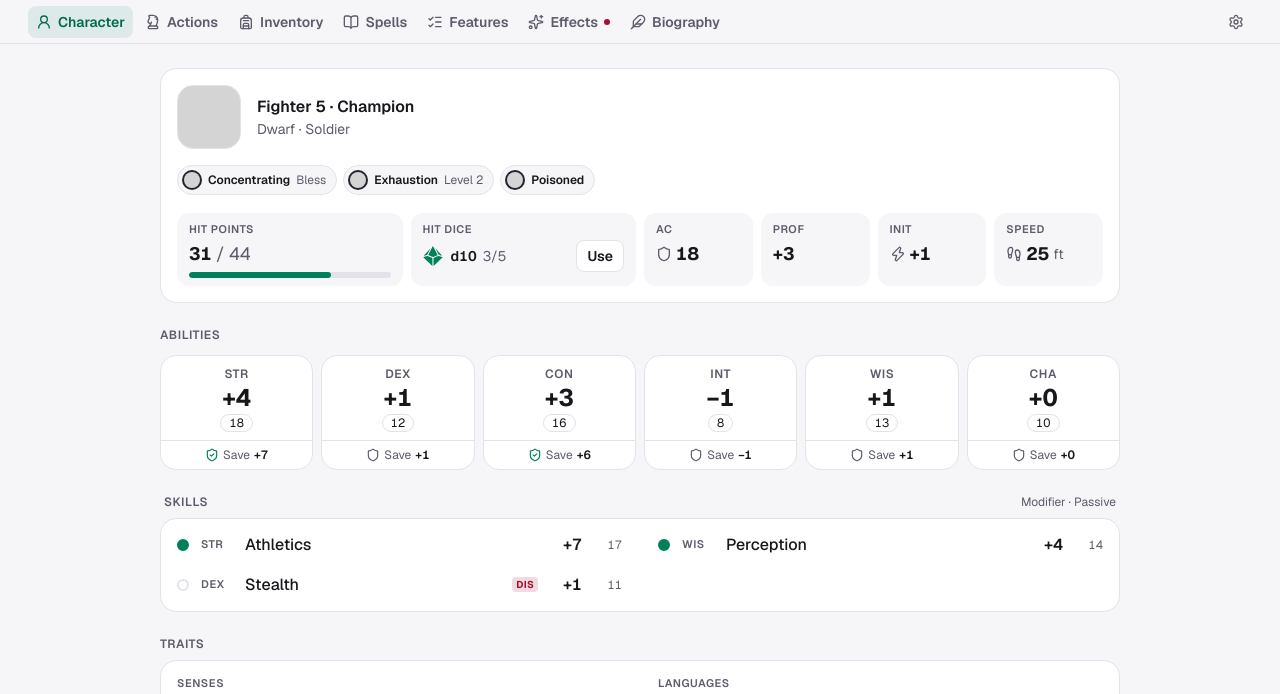
components/transfers/give-controls › keeps the spinner on its own buttons, none by the Currency label, unlike a party’s sheet (module 0.33.0)
Click the tab "Inventory" at [281, 22], box [230,6,331,38]
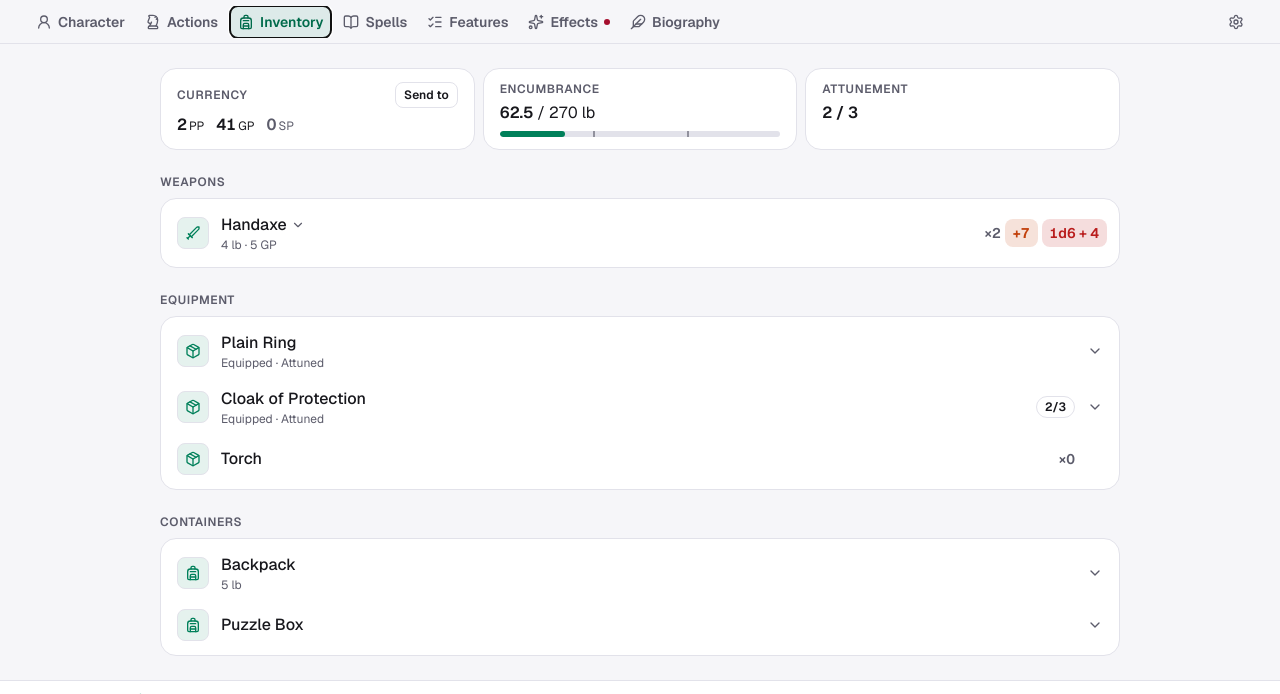
Click the button "Send to" at [426, 94], box [395,82,458,108]
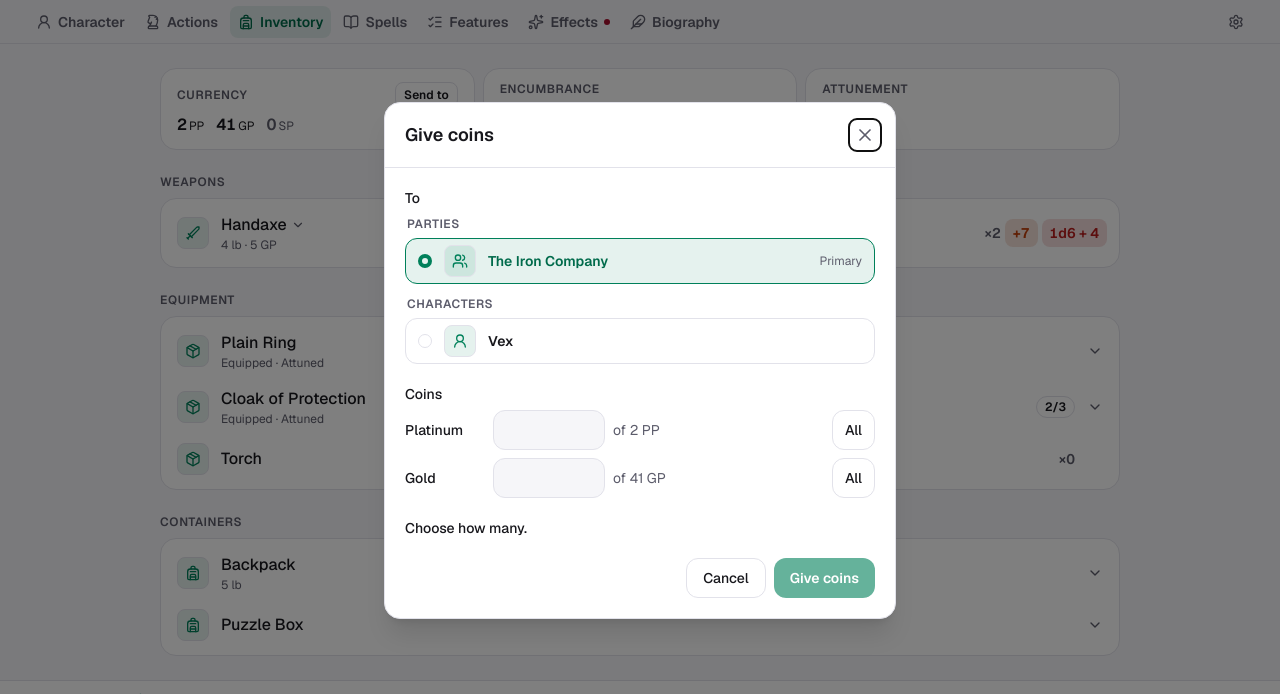
Type "5" into the field labelled "Gold" at [549, 478], box [493,458,605,498]
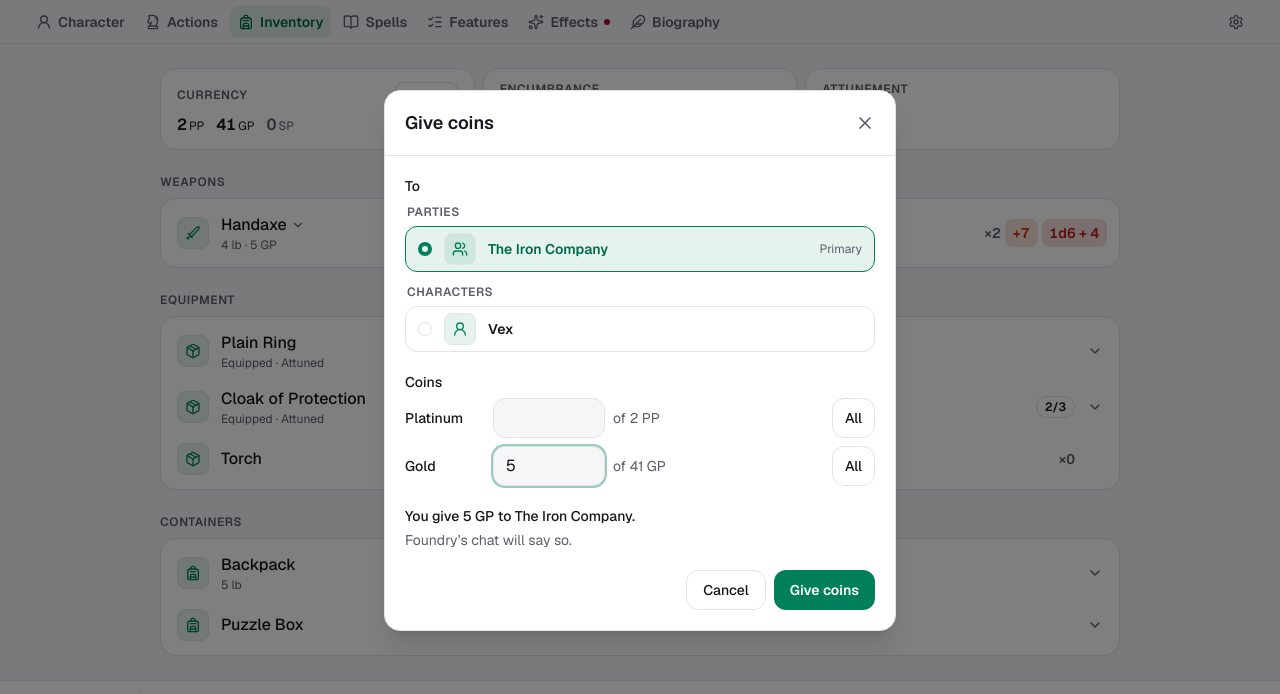
Click the button "Give coins" at [824, 590], box [774,570,875,610]
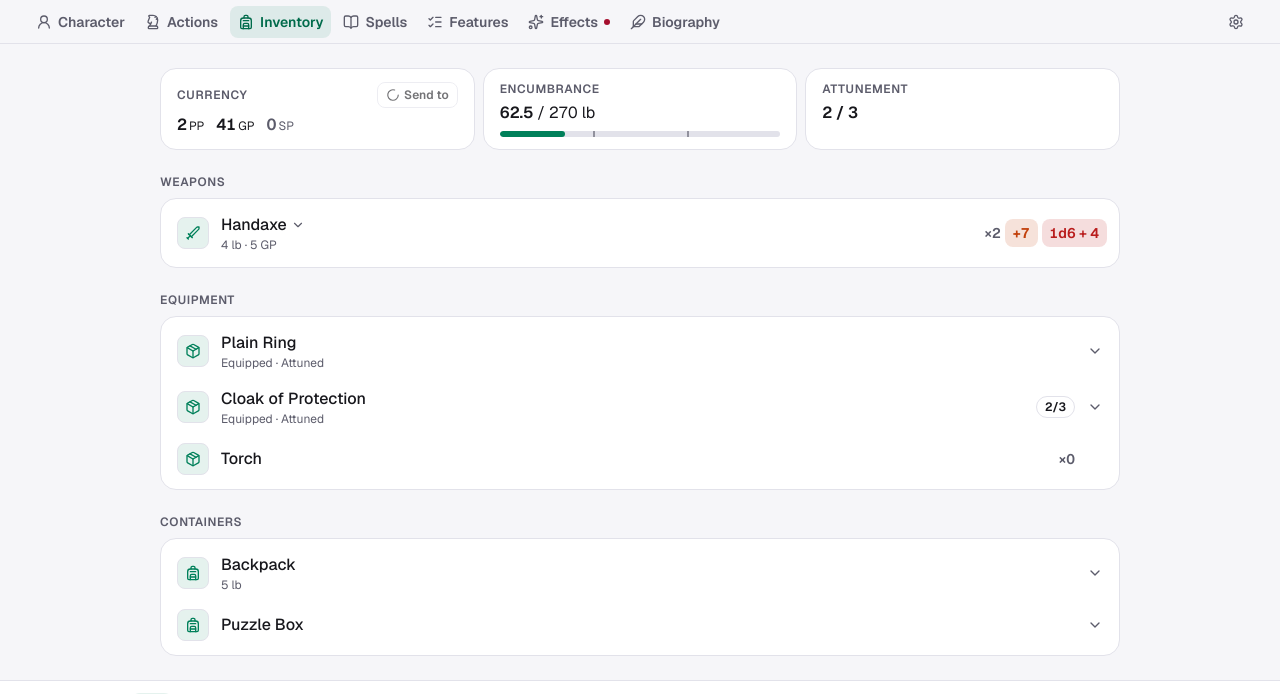
Now the button "Send to" is disabled, box [377,82,458,108]
